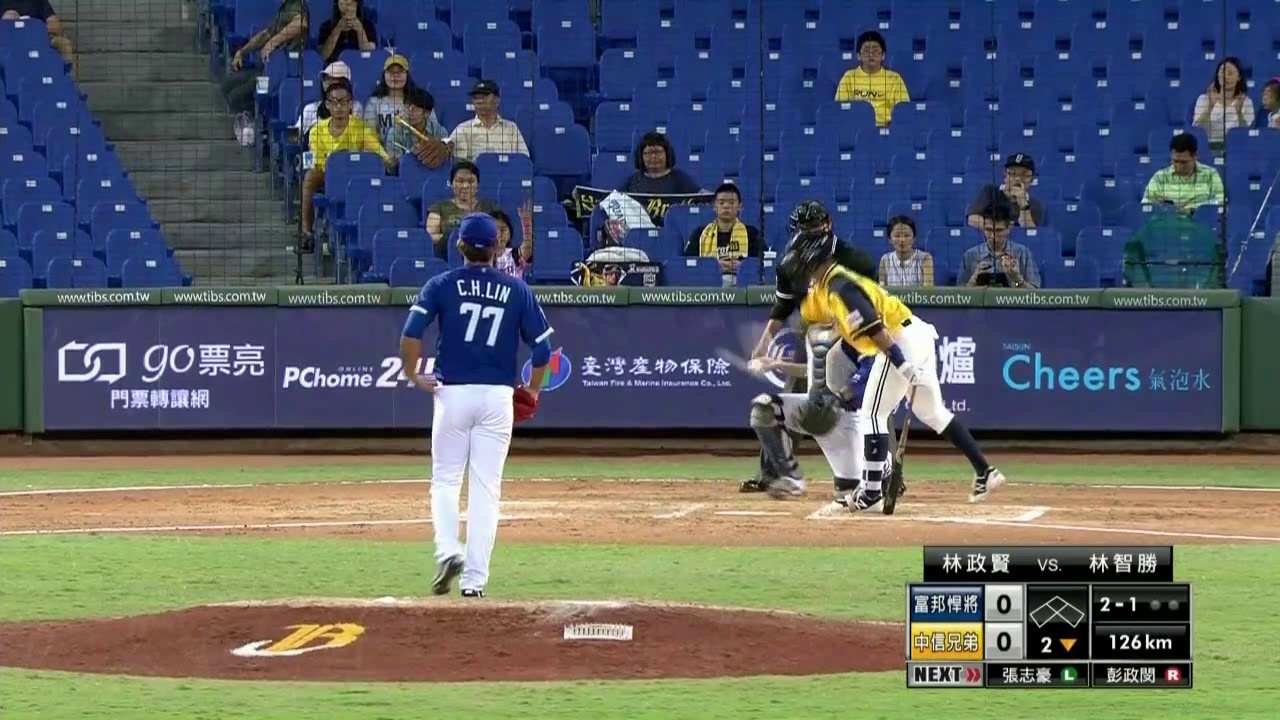ball: (742, 355, 765, 375)
base: (1026, 592, 1088, 628)
bat: (803, 291, 846, 434)
out: (1144, 588, 1186, 619)
score1: (988, 586, 1022, 617)
score2: (987, 623, 1023, 656)
session: (1026, 631, 1089, 655)
speed: (1095, 629, 1186, 657)
strikeball: (1093, 588, 1141, 620)
